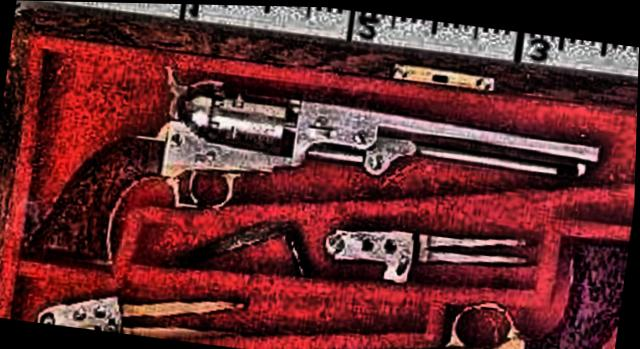pistol: (17, 47, 607, 325)
